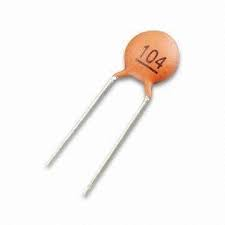ceramic capacitor: (95, 12, 196, 135)
